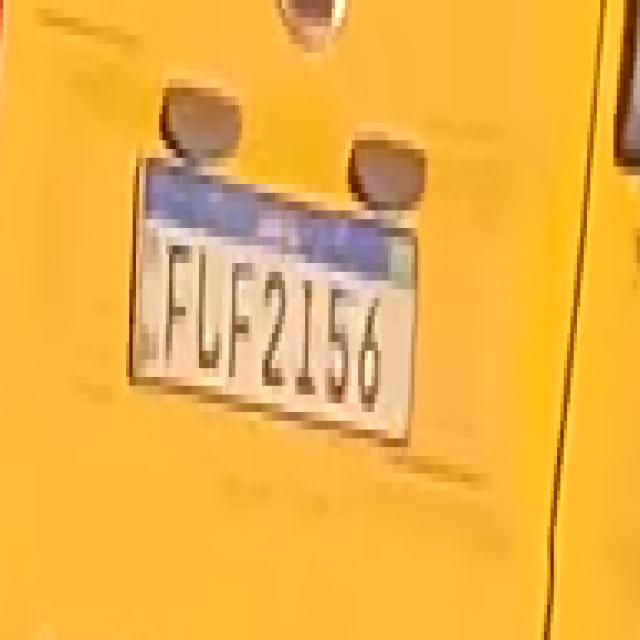Placa_mercosul_carro: (128, 146, 419, 449)
